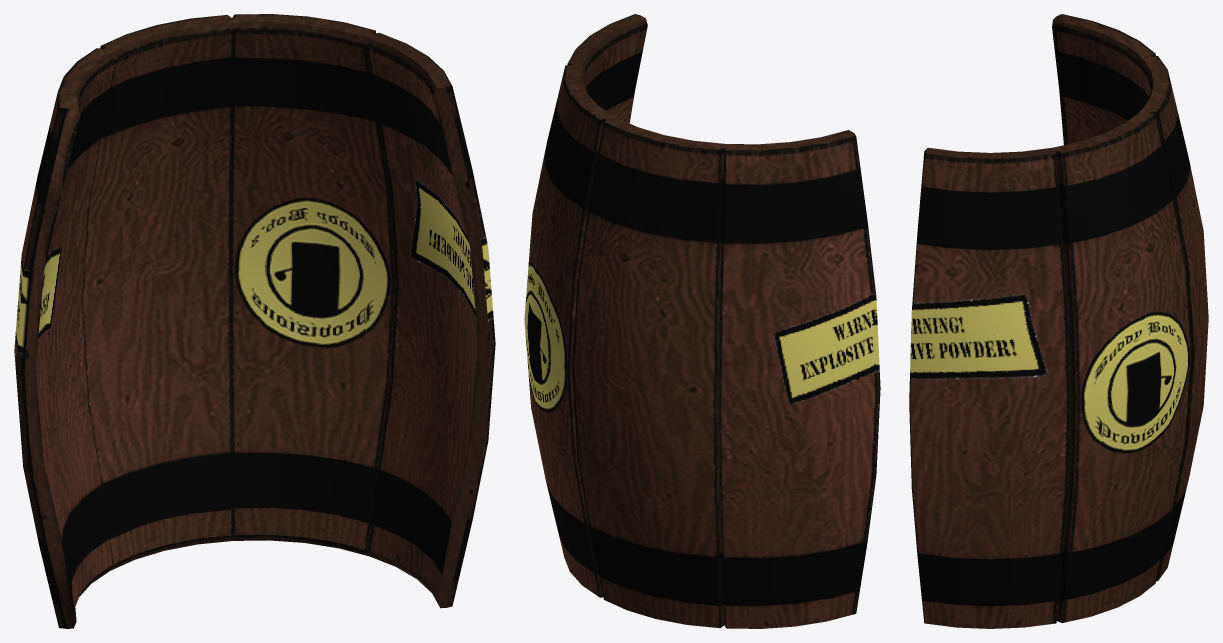
The model's file is keg_middle_gib_2.fbx.
The picture shows the model from 3 angles, left to right: view 1: azimuth 30°, elevation 25°; view 2: azimuth 150°, elevation 25°; view 3: azimuth 270°, elevation 25°; orthographic projection. The views are drawn at different scales.
Visible parts, largest first — view 1: keg_middle_gib_2; view 2: keg_middle_gib_2; view 3: keg_middle_gib_2.
Part boxes in pixels (x1,y1,x2,y2): keg_middle_gib_2: (14, 14, 495, 628); keg_middle_gib_2: (524, 14, 880, 628); keg_middle_gib_2: (909, 14, 1208, 628).
Size of the model in its own units: 243 by 300 by 173.
